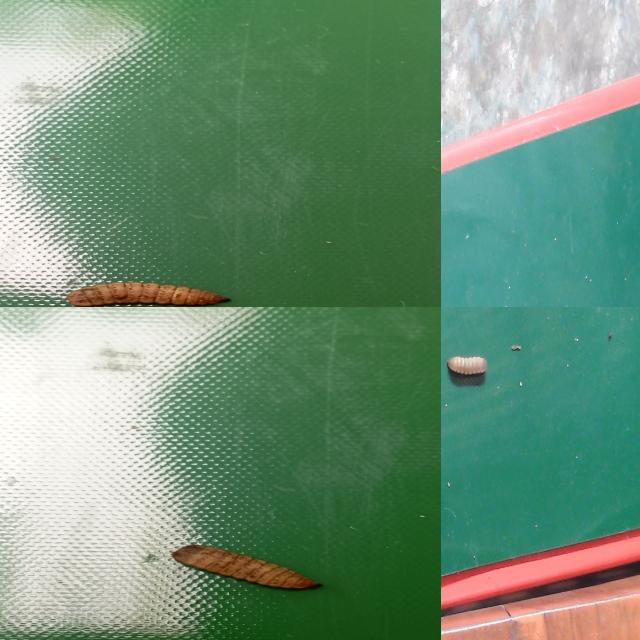Maggot: (171, 546, 321, 594), (63, 282, 230, 307), (445, 355, 488, 389)
